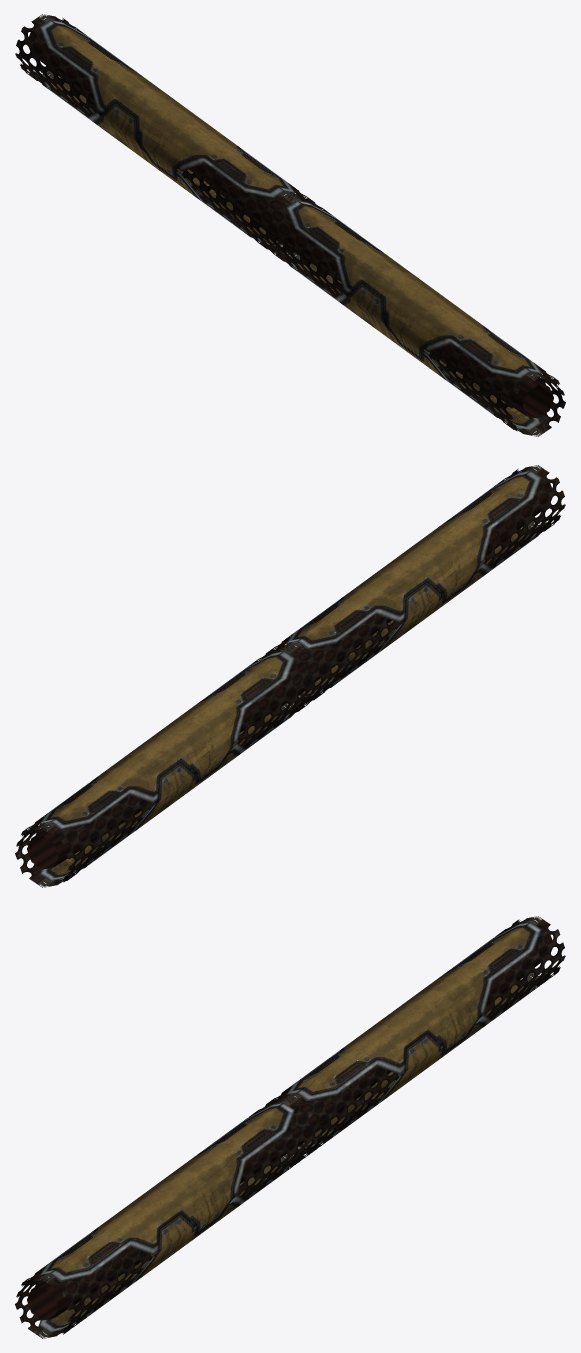
File: fibreoptic_cable_red_short.dae
The picture shows the model from 3 angles, top to bottom: view 1: azimuth 30°, elevation 25°; view 2: azimuth 150°, elevation 25°; view 3: azimuth 330°, elevation 25°; orthographic projection.
Visible parts, largest first — view 1: polySurface3, polySurface2, pCylinder3; view 2: polySurface3, polySurface2, pCylinder3; view 3: polySurface3, polySurface2, pCylinder3.
Part boxes in pixels (box(x1,y1,x2,y2)): polySurface3: box(15, 14, 565, 436); polySurface2: box(16, 15, 564, 435); pCylinder3: box(28, 32, 553, 418); polySurface3: box(15, 465, 565, 887); polySurface2: box(16, 466, 564, 886); pCylinder3: box(27, 483, 552, 869); polySurface3: box(15, 916, 565, 1338); polySurface2: box(16, 917, 564, 1337); pCylinder3: box(27, 926, 552, 1320).
Bounding box in the file's own units: 0.1337 × 0.1337 × 2.
